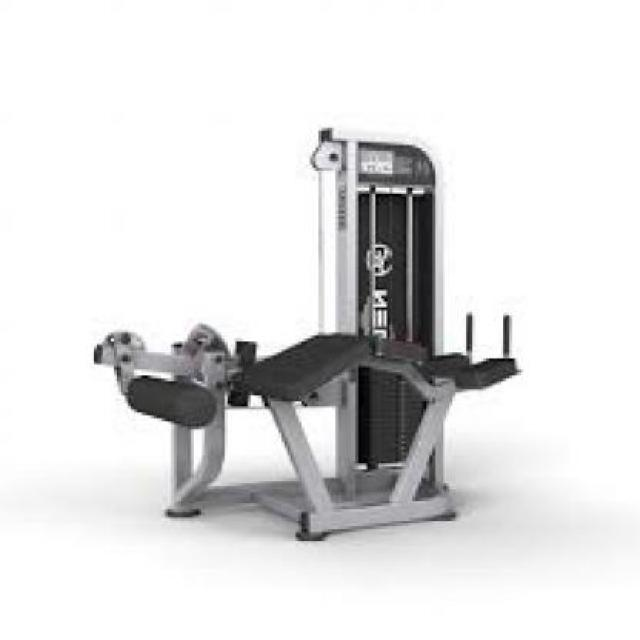reg curl machine: (82, 121, 530, 544)
